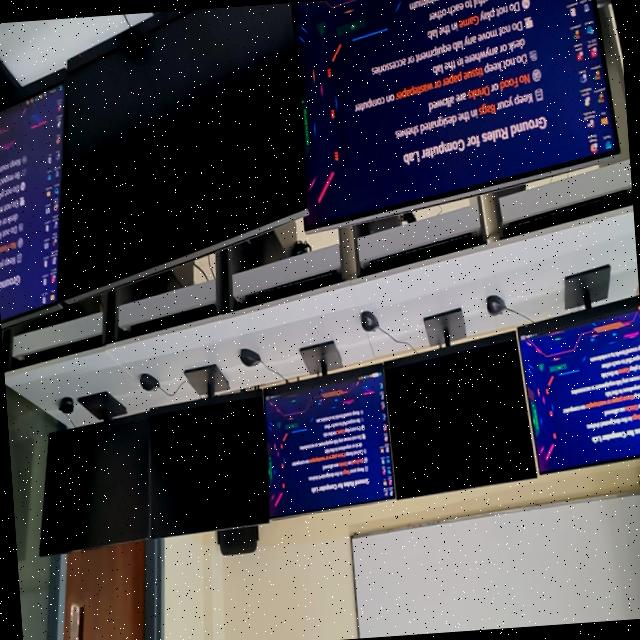Chair: (215, 524, 257, 554)
Cpu: (36, 289, 100, 324), (249, 219, 296, 265), (150, 261, 192, 291), (363, 214, 400, 232)
Keyboard: (504, 189, 632, 234), (367, 231, 480, 272), (245, 269, 338, 303), (11, 334, 100, 367), (129, 303, 214, 333)
Monitor: (292, 0, 617, 230), (57, 1, 304, 301), (382, 309, 535, 498), (517, 264, 640, 473), (263, 341, 393, 516), (150, 364, 268, 537), (38, 391, 149, 555), (0, 60, 64, 329)
Mouse: (485, 294, 505, 314), (359, 310, 377, 330), (239, 348, 259, 365)
